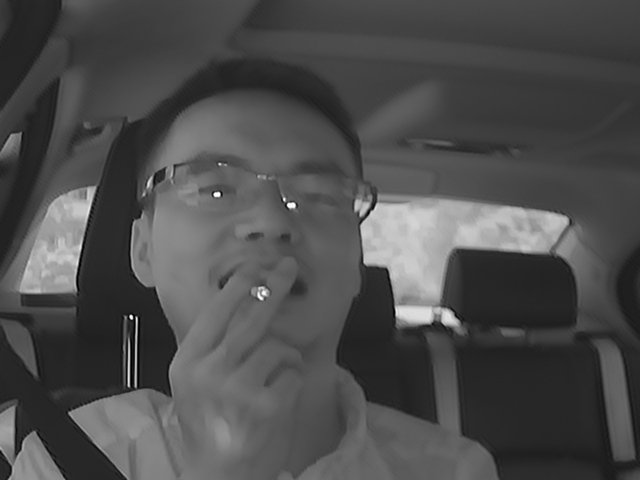hand: (165, 256, 312, 433)
